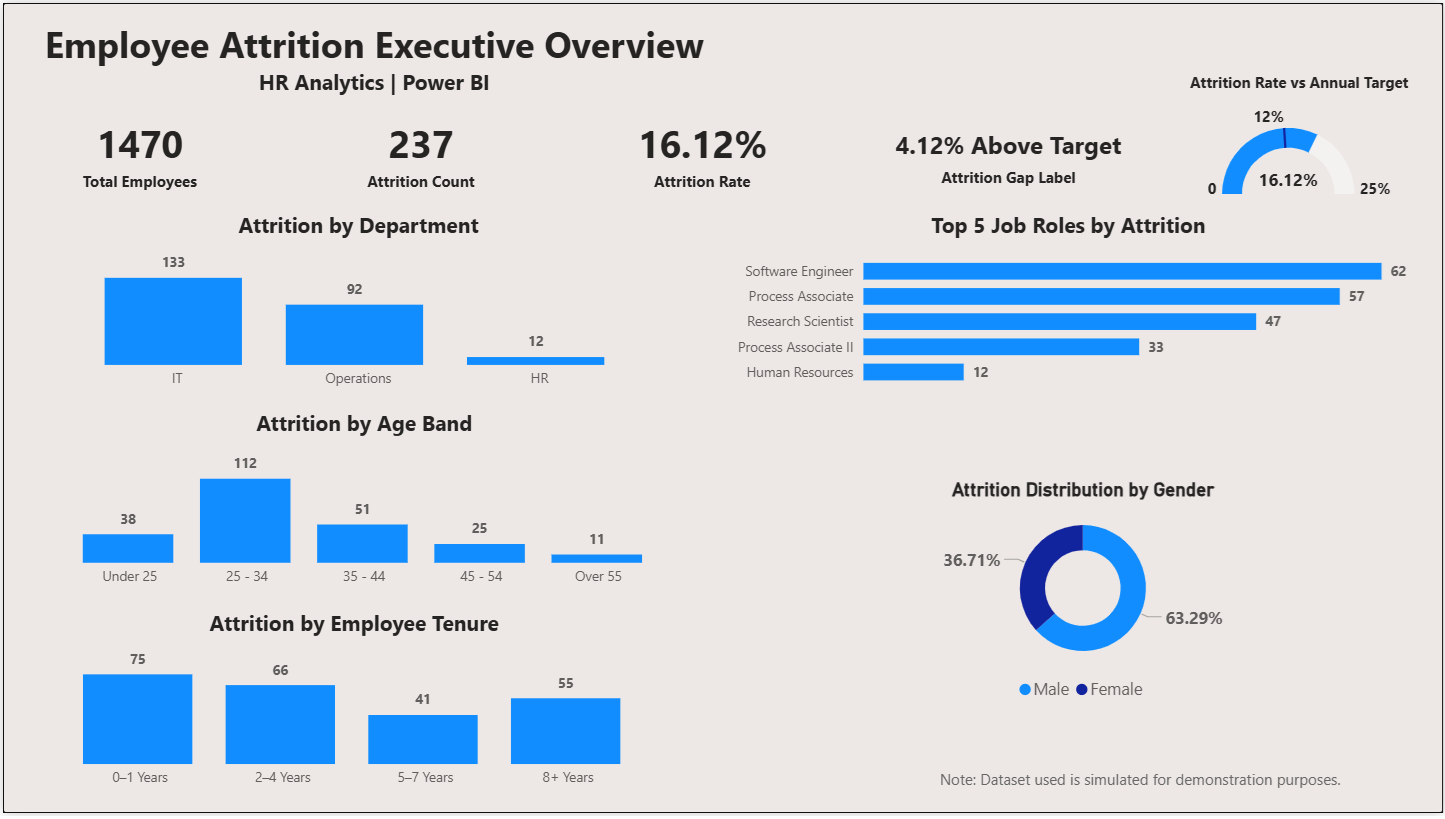

What the dashboard file says about the page in this screenshot:
{"tool":"powerbi","page":{"name":"Overview","canvas":[1280,720],"ordinal":0},"visuals":[{"type":"textbox","box":[19.5,10.3,620.1,84.2],"z":0},{"type":"card","fields":{"Values":["Key Measures.Total Employees"]},"box":[21.8,87.4,199,92.2],"z":1000},{"type":"card","fields":{"Values":["Key Measures.Employees Left"]},"box":[271.8,87.4,199,92.2],"z":2000},{"type":"card","fields":{"Values":["Key Measures.Attrition Rate"]},"box":[521.8,87.4,199,92.2],"z":3000},{"type":"card","fields":{"Values":["Key Measures.Attrition Gap Label"]},"box":[776.7,61.1,234.4,151.1],"z":4000},{"type":"clusteredColumnChart","title":"Attrition by Department","fields":{"Category":["Dim_Job.Department"],"Y":["Key Measures.Employees Left"]},"box":[21.4,184.1,589.8,167.5],"z":5000,"group":"g1"},{"type":"clusteredBarChart","title":"Top 5 Job Roles by Attrition","fields":{"Category":["Dim_Job.JobRole"],"Y":["Key Measures.Employees Left"]},"box":[640.1,184.7,613.9,166],"z":5000},{"type":"clusteredColumnChart","title":"Attrition by Age Band","fields":{"Y":["Key Measures.Employees Left"],"Category":["Dim_Employee.AgeBand"]},"box":[24.4,360,593.3,167.8],"z":5000,"group":"g2"},{"type":"clusteredColumnChart","title":"Attrition by Employee Tenure","fields":{"Y":["Key Measures.Employees Left"],"Category":["Fact_Attrition.Tenure Band"]},"box":[15.6,537.8,593.3,168.9],"z":5000,"group":"g3"},{"type":"group","id":"g1","title":"Group 1","box":[21.4,184.1,589.8,167.5],"z":6000},{"type":"group","id":"g2","title":"Group 1","box":[24.4,360,593.3,167.8],"z":7000},{"type":"donutChart","title":"Attrition Distribution by Gender","fields":{"Category":["Dim_Employee.Gender"],"Y":["Key Measures.Employees Left"]},"box":[827.6,422.3,264.5,207.5],"z":8000},{"type":"textbox","box":[827.8,675.6,381.1,31.1],"z":9000},{"type":"gauge","title":"Attrition Rate vs Annual Target","fields":{"Y":["Key Measures.Attrition Rate"],"TargetValue":["Key Measures.Attrition Target"],"MinValue":["Key Measures.Gauge Min"],"MaxValue":["Key Measures.Gauge Max"]},"box":[1050,61.1,204.4,118.9],"z":10000},{"type":"group","id":"g3","title":"Group 1","box":[15.6,537.8,593.3,168.9],"z":11000}]}

Visuals, with their boxes in screenshot pixels (x1, y1, x2, y2), scaled from the page's 1280x720 canvas onto the 1445x819 screenshot:
textbox: box=[22, 12, 722, 107]
card - Key Measures.Total Employees: box=[25, 99, 249, 204]
card - Key Measures.Employees Left: box=[307, 99, 531, 204]
card - Key Measures.Attrition Rate: box=[589, 99, 814, 204]
card - Key Measures.Attrition Gap Label: box=[877, 70, 1141, 241]
"Attrition by Department" clusteredColumnChart: box=[24, 209, 690, 400]
"Top 5 Job Roles by Attrition" clusteredBarChart: box=[723, 210, 1416, 399]
"Attrition by Age Band" clusteredColumnChart: box=[28, 410, 697, 600]
"Attrition by Employee Tenure" clusteredColumnChart: box=[18, 612, 687, 804]
"Group 1" group: box=[24, 209, 690, 400]
"Group 1" group: box=[28, 410, 697, 600]
"Attrition Distribution by Gender" donutChart: box=[934, 480, 1233, 716]
textbox: box=[935, 768, 1365, 804]
"Attrition Rate vs Annual Target" gauge: box=[1185, 70, 1416, 205]
"Group 1" group: box=[18, 612, 687, 804]
